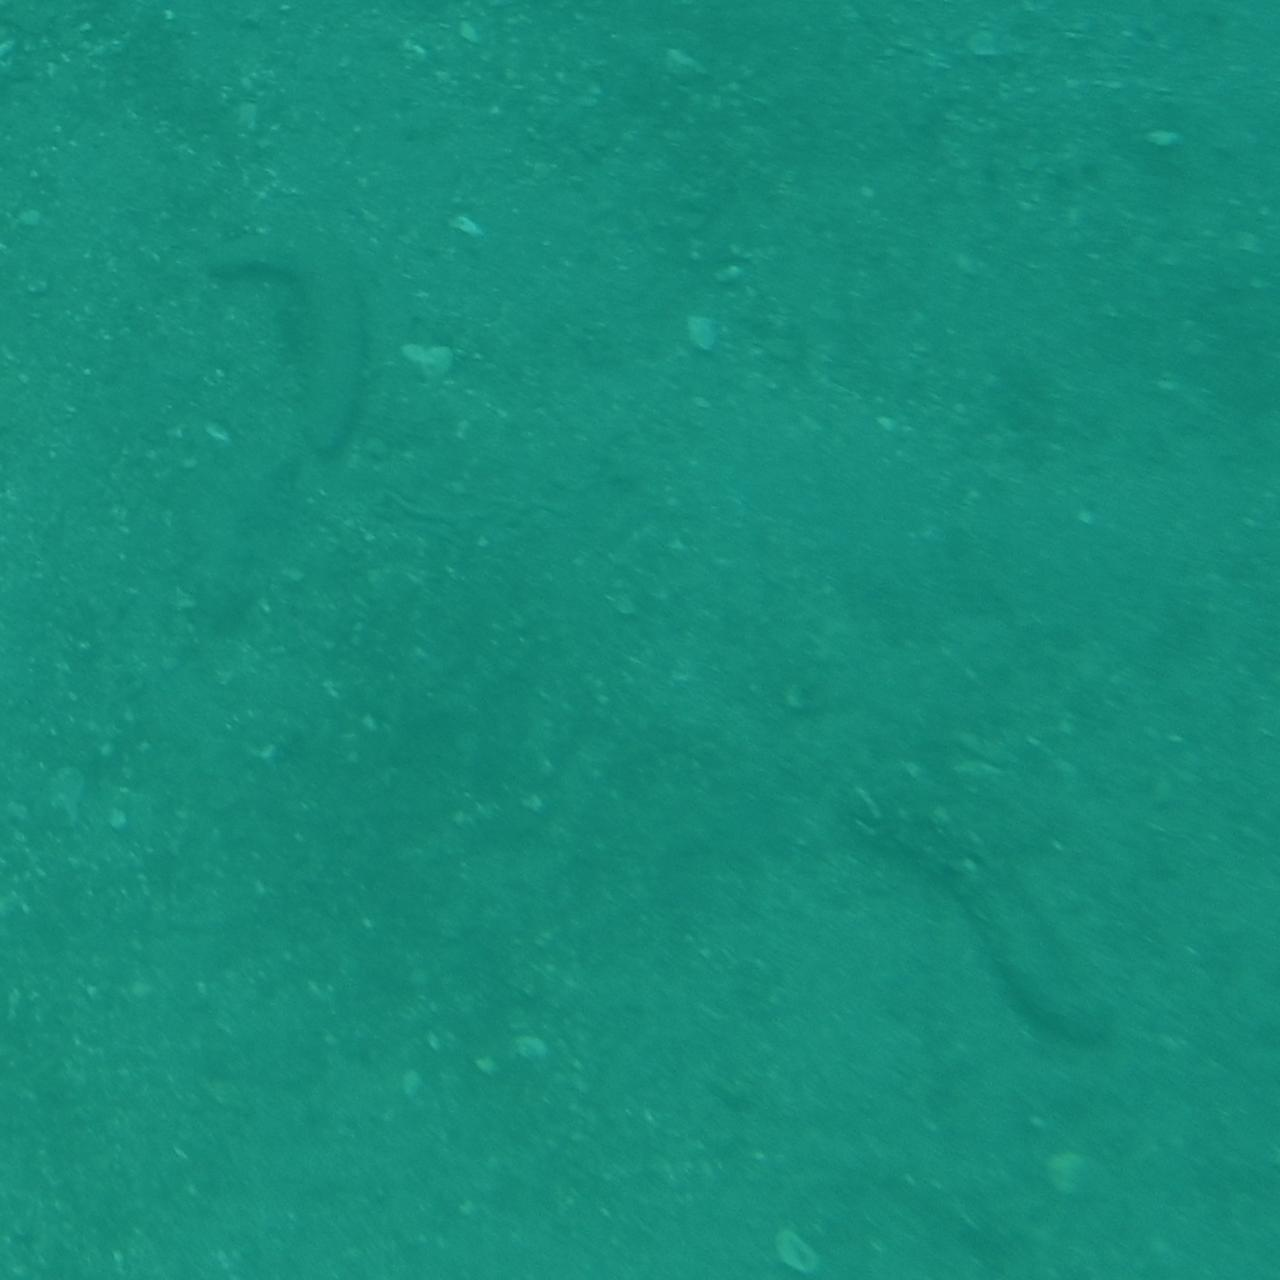Holothuria tubulosa: (844, 785, 1146, 1071), (211, 229, 361, 476)
